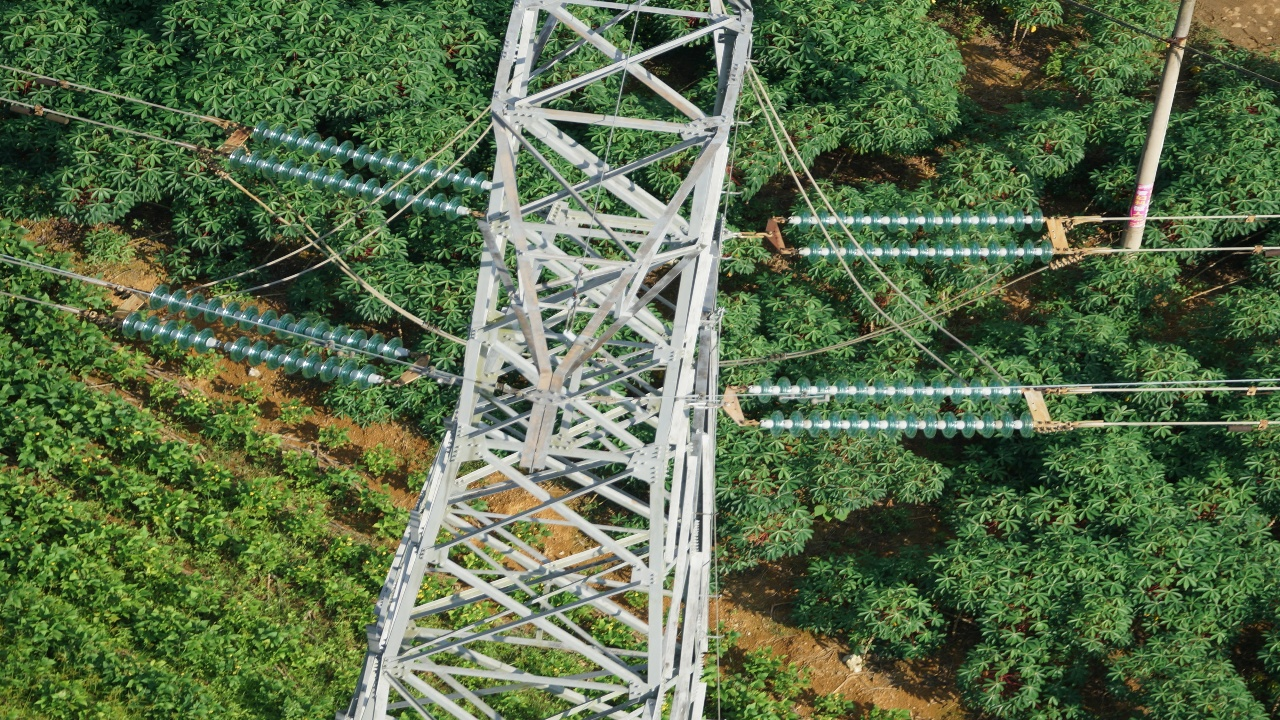绝缘子自爆区域: (204, 332, 233, 360)
